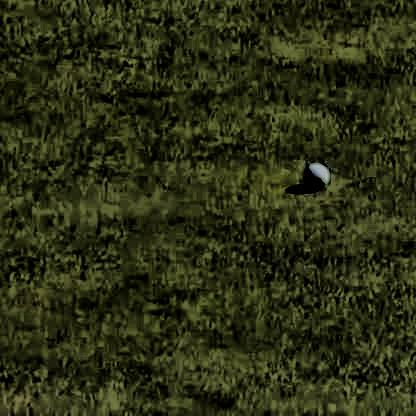golfball: (301, 156, 326, 186)
